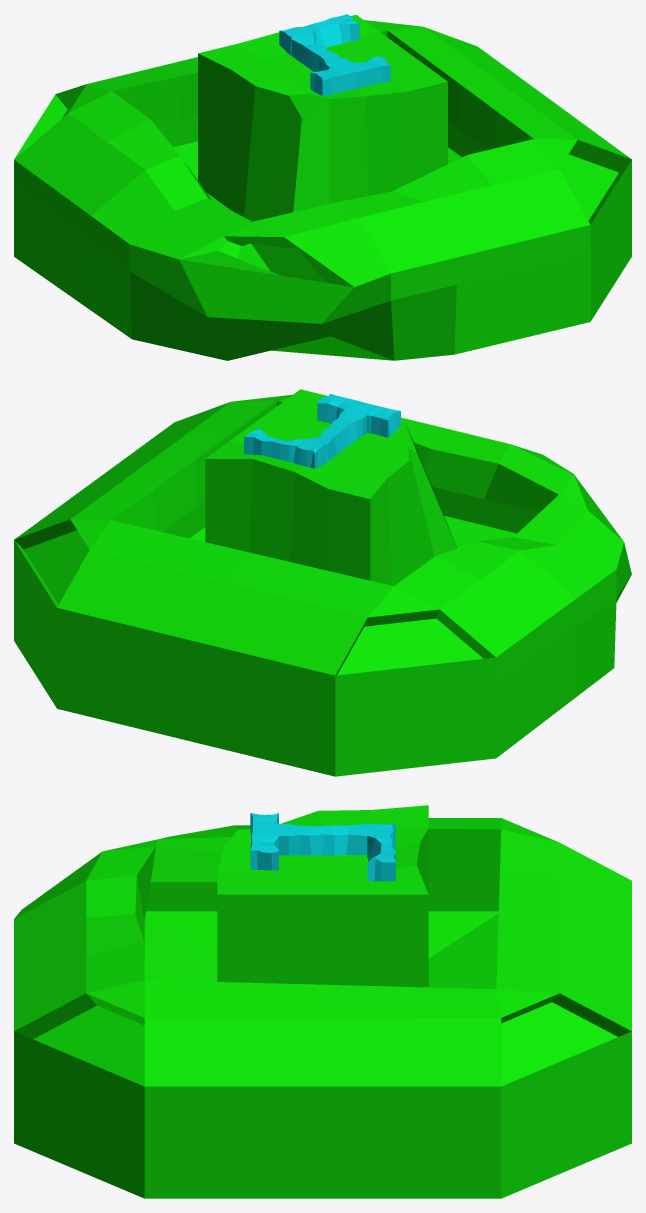
File: cool coin.fbx
The picture shows the model from 3 angles, top to bottom: view 1: azimuth 30°, elevation 25°; view 2: azimuth 150°, elevation 25°; view 3: azimuth 270°, elevation 25°; orthographic projection. The views are drawn at different scales.
Visible parts, largest first — view 1: Cube, Cube.002, Cube.003, Cube.001; view 2: Cube, Cube.003, Cube.002, Cube.001; view 3: Cube, Cube.001, Cube.003, Cube.002.
Part boxes in pixels (x1,y1,x2,y2): Cube: [14, 14, 631, 360]; Cube.002: [310, 56, 390, 96]; Cube.003: [279, 14, 359, 55]; Cube.001: [292, 34, 351, 71]; Cube: [14, 389, 631, 776]; Cube.003: [244, 427, 327, 468]; Cube.002: [317, 393, 400, 437]; Cube.001: [306, 410, 367, 461]; Cube: [14, 805, 631, 1198]; Cube.001: [279, 824, 367, 855]; Cube.003: [367, 824, 395, 881]; Cube.002: [250, 813, 278, 870].
Bounding box in the file's own units: 400 × 201 × 400.
